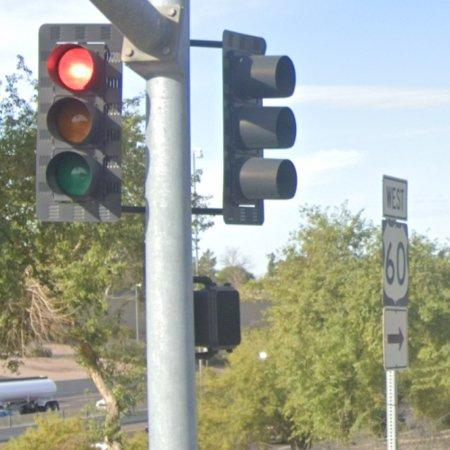traffic lights: (36, 23, 123, 222)
